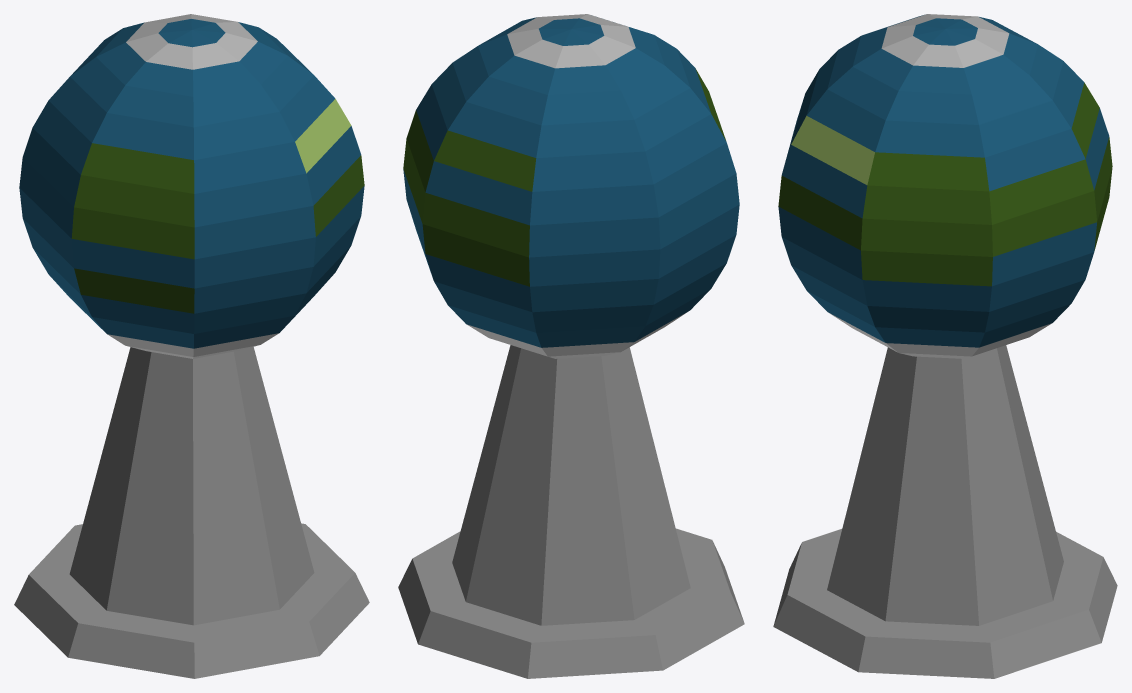
Rendered from decoration_interior.glb.
3 renders of one model, left to right at view 1: azimuth 30°, elevation 25°; view 2: azimuth 150°, elevation 25°; view 3: azimuth 270°, elevation 25°, orthographic.
Parts seen in each view (by area): view 1: decoration_interior; view 2: decoration_interior; view 3: decoration_interior.
Boxes of the visible parts, x1,y1,x2,y2 form: decoration_interior: [14, 14, 369, 678]; decoration_interior: [398, 14, 744, 678]; decoration_interior: [773, 14, 1117, 678].
Bounding box in the file's own units: 8.55 × 15.81 × 8.55.
1 material, 1 textured.
